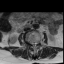CCS_normal: (33, 40, 35, 49)
LFS_normal: (36, 39, 38, 46)
LLS_normal: (35, 39, 36, 47)
RFS_severe_stenosis: (29, 39, 31, 45)
RLS_normal: (31, 40, 33, 47)
